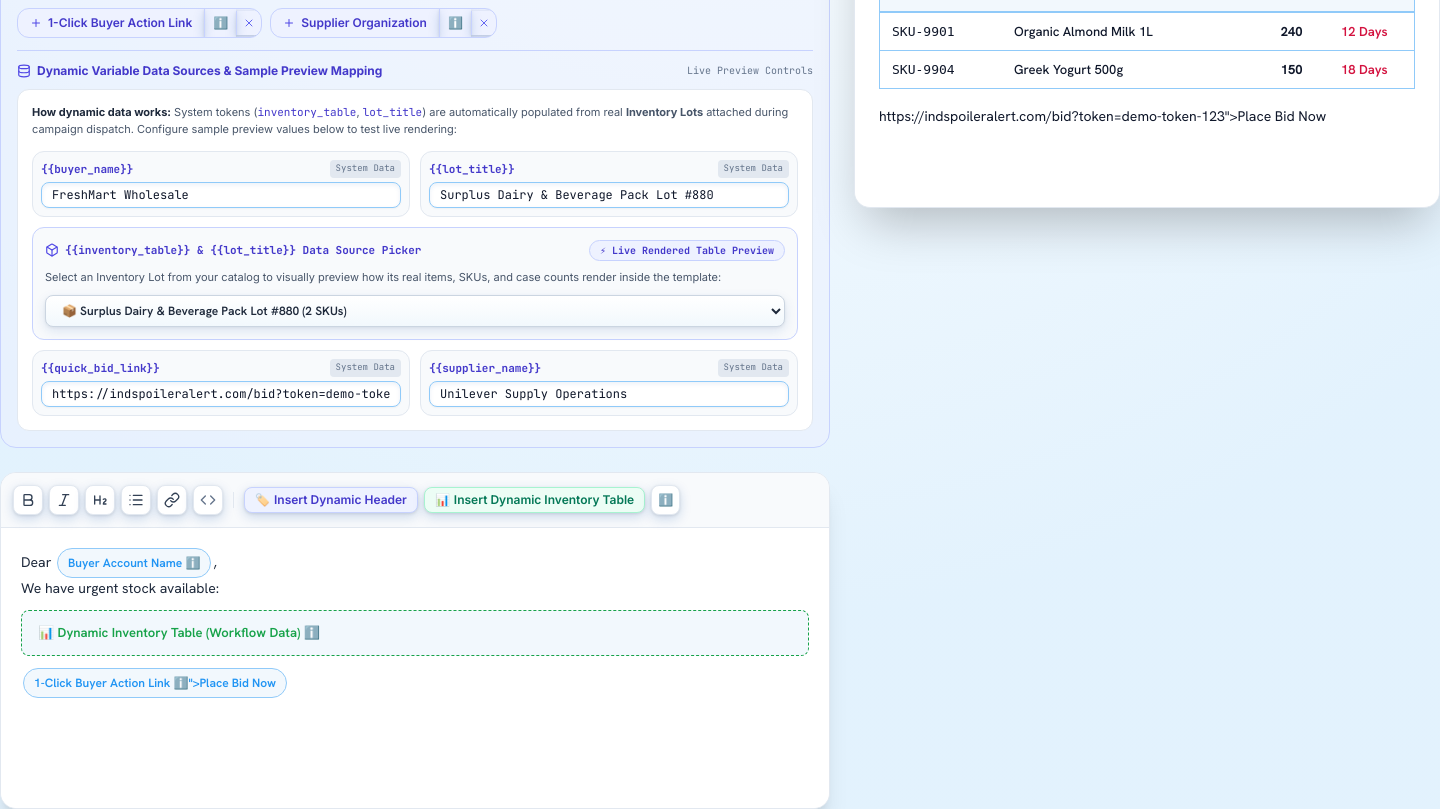
07 — TipTap Rich Editor Light Theme (TipTapTemplateEditor) › Seam 3: TipTap Editor Toolbar, Canvas Surface & Token Info Modal Light Theme › renders dynamic token info popup modal with white card surface and clear dark text contrast
(page scrolled)
Click the button with test id "toolbar-token-info-button" at point(666, 500), box [651,485,680,515]
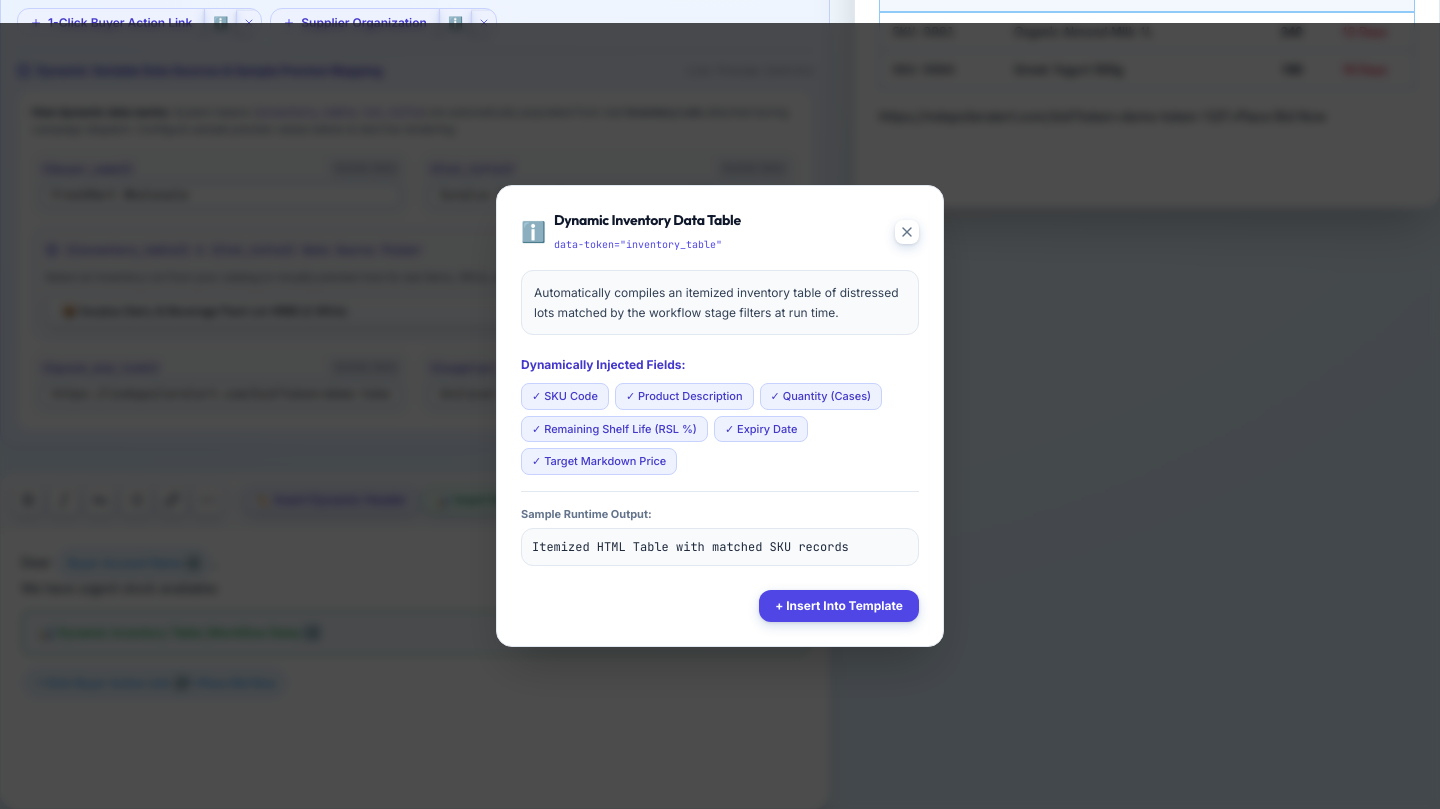
Result: the heading "Dynamic Inventory Data Table" is shown at [554,210,741,230]
Result: the element with test id "active-token-info-title" is shown at [496,185,944,647]
